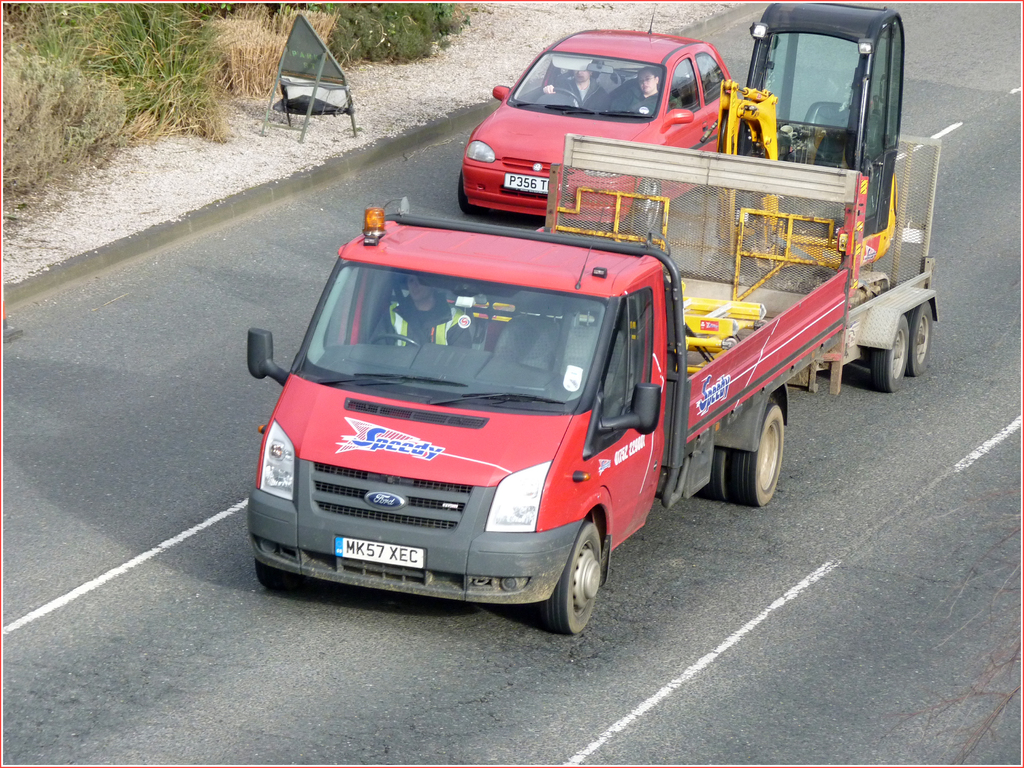Car: (456, 5, 737, 216)
